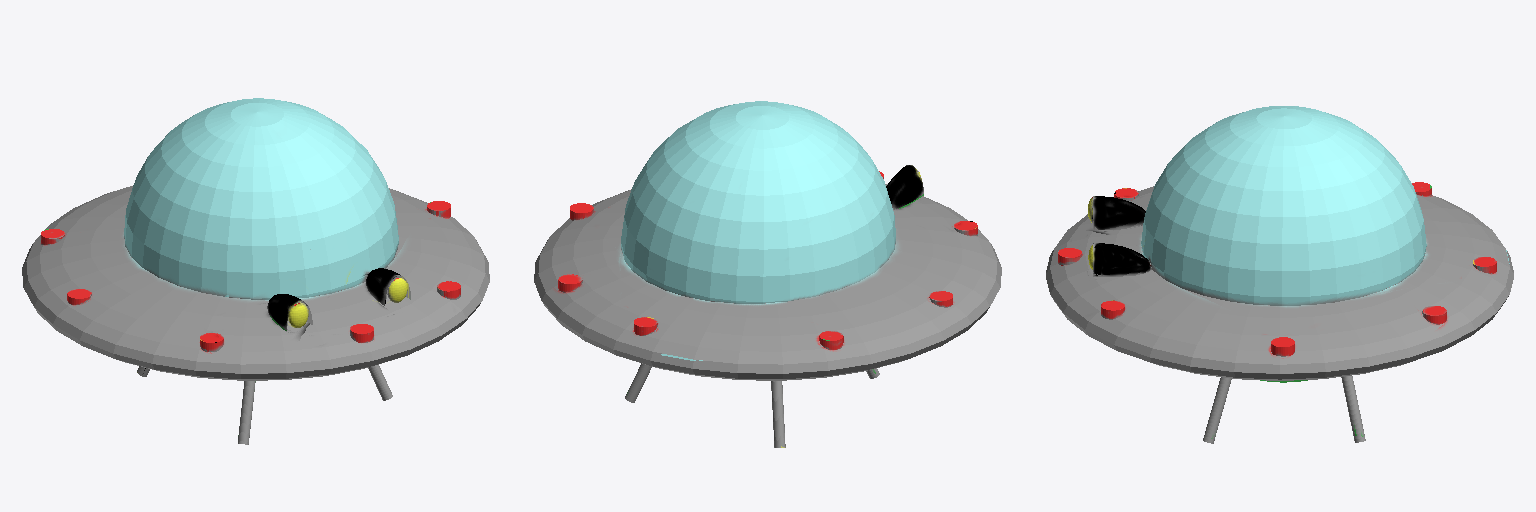
The picture shows the model from 3 angles: view 1: azimuth 30°, elevation 25°; view 2: azimuth 150°, elevation 25°; view 3: azimuth 270°, elevation 25°; orthographic projection.
Visible parts, largest first — view 1: Esfera.002; view 2: Esfera.002; view 3: Esfera.002.
Part boxes in pixels (left/top/right/bottom): Esfera.002: left=22, top=98, right=489, bottom=444; Esfera.002: left=534, top=101, right=1001, bottom=447; Esfera.002: left=1046, top=106, right=1513, bottom=443.
Bounding box in the file's own units: 11.21 × 7.45 × 11.21.
1 materials, 1 textured.